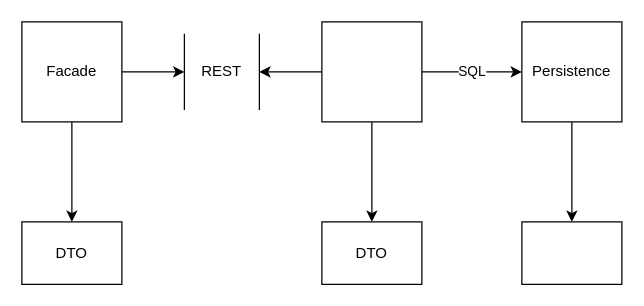
Some shapes in this 644 by 306 pixel diagram are drawn without their labels. Each missing label, with the box of its shape:
Backend: (321, 21, 422, 122)
Relation Schema: (521, 221, 622, 284)
